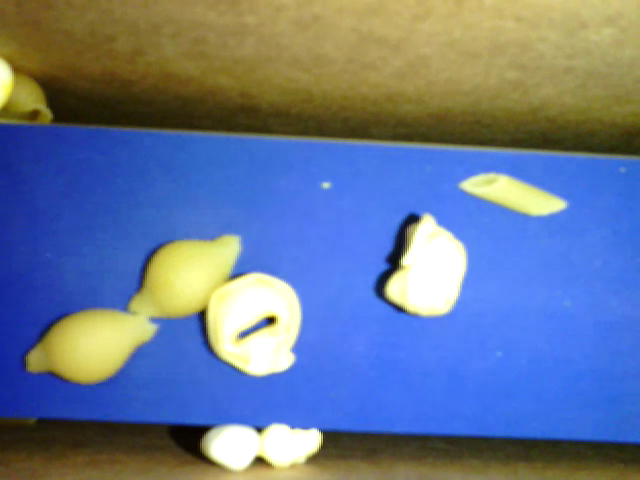penne: (458, 172, 571, 223)
shell: (22, 308, 162, 386), (127, 232, 245, 318), (1, 74, 53, 127)
tortellini: (201, 272, 304, 377), (373, 212, 469, 321)
